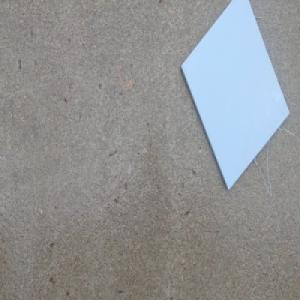PaintChip: (180, 0, 290, 191)
